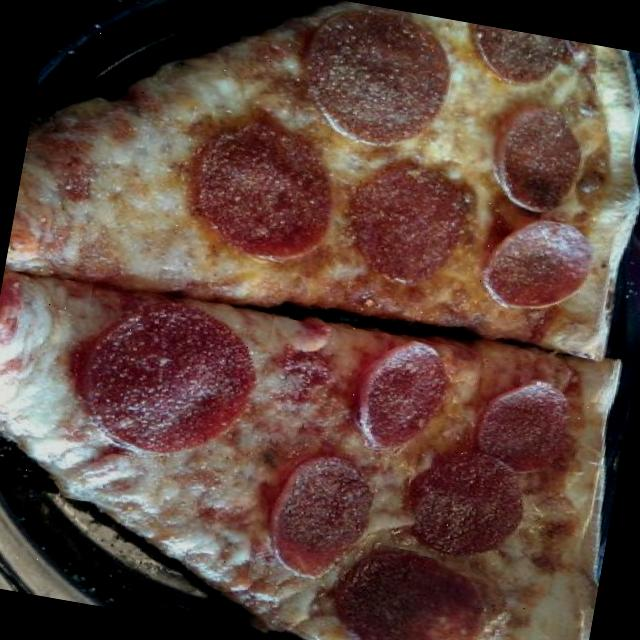pepperoni: (65, 284, 274, 475), (176, 102, 344, 278), (288, 0, 459, 155), (336, 142, 484, 299), (250, 434, 380, 590), (315, 537, 505, 640), (391, 440, 535, 568), (331, 327, 459, 466), (475, 210, 605, 330), (489, 92, 595, 217), (466, 373, 586, 482), (460, 22, 574, 94)
pizza: (0, 273, 616, 640), (8, 0, 639, 357)
